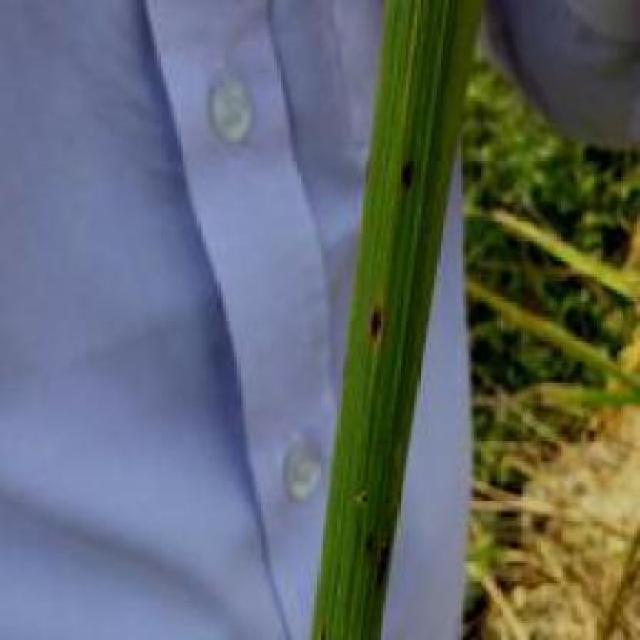Leaf_Blast: (358, 512, 388, 590), (391, 140, 424, 202), (358, 287, 384, 356), (311, 611, 335, 640)
